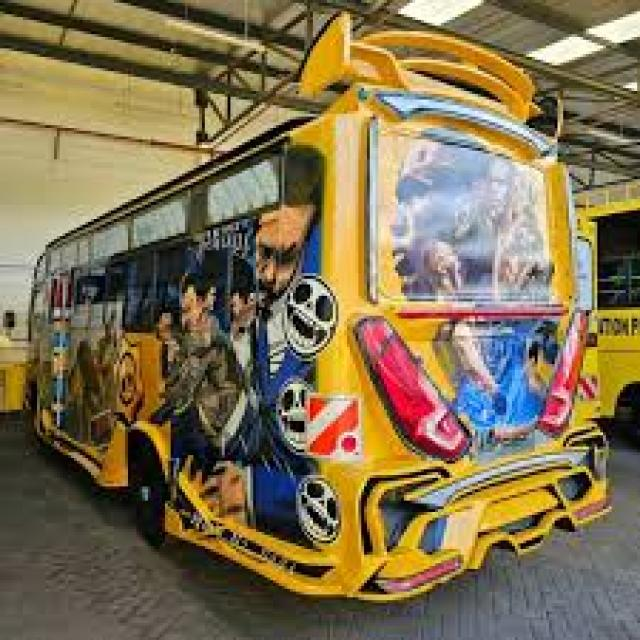bus: (5, 8, 622, 614)
